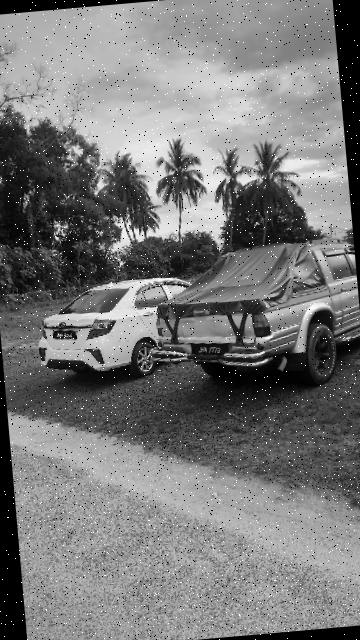License_Plate: (189, 338, 232, 359), (52, 328, 81, 344)
car: (150, 240, 360, 403), (27, 274, 208, 389)
